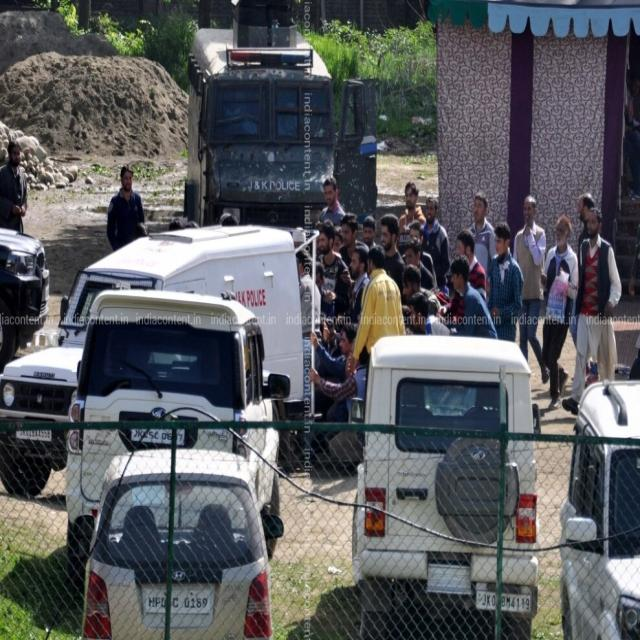plate: (139, 580, 217, 620), (471, 586, 539, 618), (128, 421, 191, 452), (13, 420, 56, 448), (41, 283, 52, 301)
